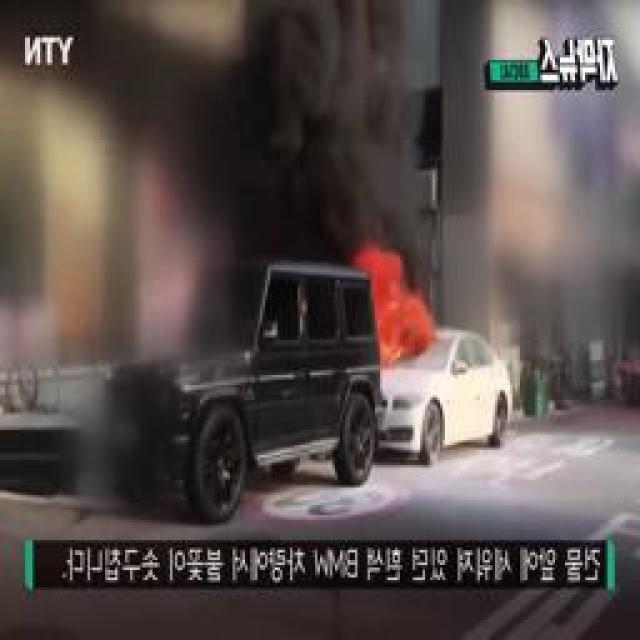Fire: (352, 244, 418, 355)
